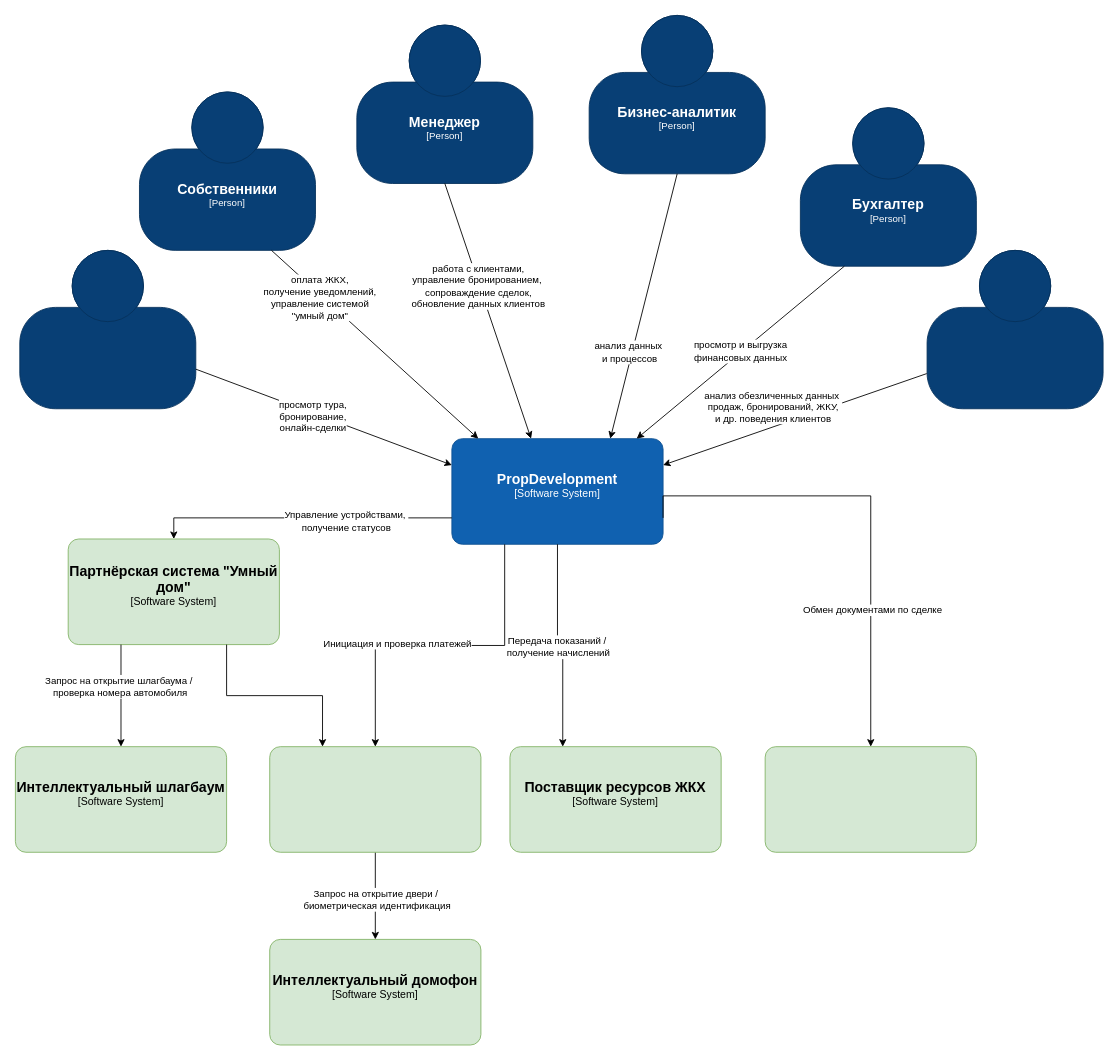
This 1118x1060 diagram has some shape labels left out. Here are the shapes that lost their labels. From the top down, the box of each, then its label:
(19, 249, 196, 409): Клиент [Person]
(926, 249, 1103, 409): Аналитик BI [Person]
(269, 746, 481, 852): Платёжная система [Software System]
(764, 746, 976, 852): Государственные регистрационные органы [Software System]
